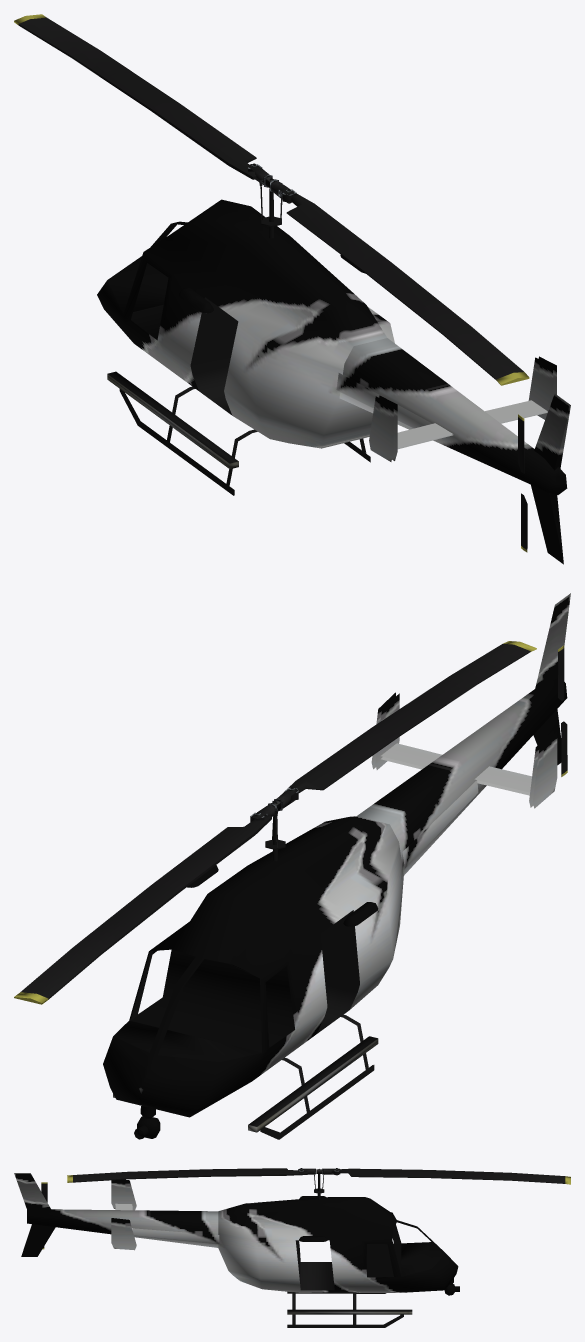
File: maverick.glb
3 views of the same model, one above another, from view 1: azimuth 30°, elevation 25°; view 2: azimuth 150°, elevation 25°; view 3: azimuth 270°, elevation 25° (orthographic). The views are drawn at different scales.
Parts seen in each view (by area): view 1: chassis; view 2: chassis; view 3: chassis.
Boxes of the visible parts, left/top/right/bottom form: chassis: left=14, top=14, right=570, bottom=564; chassis: left=14, top=593, right=570, bottom=1139; chassis: left=14, top=1168, right=570, bottom=1327.
Bounding box in the file's own units: 2.79 × 4.24 × 15.03.
Materials: 2 (2 with a texture image).
